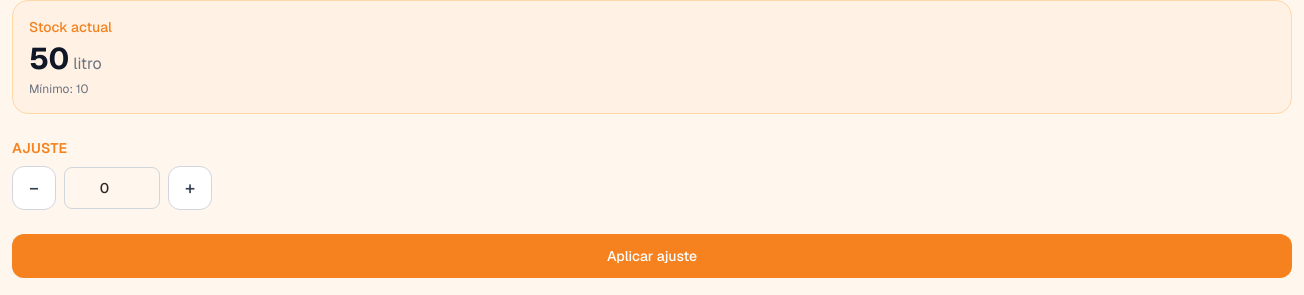
Test: StockAdjustForm — button interaction › - button decrements the delta input value
Expected: the number field labelled "Ajuste" holds "0", x1=64 y1=167 x2=160 y2=209
Click the button named "Disminuir stock".
click(34, 188)  # box x1=12 y1=166 x2=56 y2=210
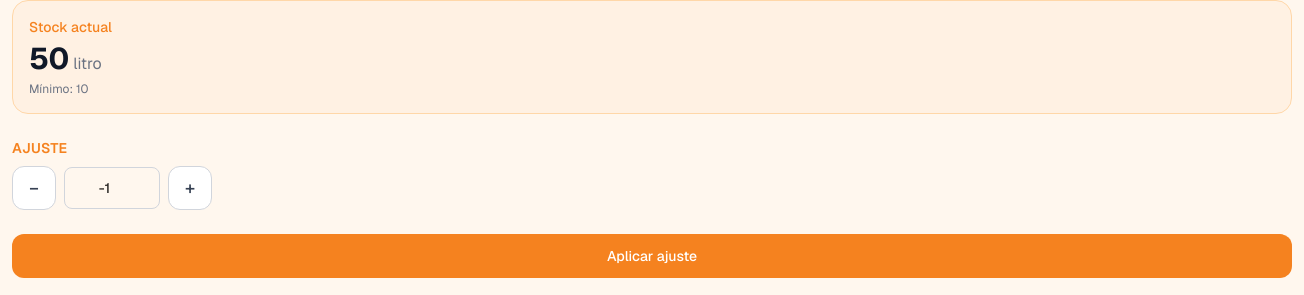
Expected: the number field labelled "Ajuste" holds "-1", x1=64 y1=167 x2=160 y2=209
